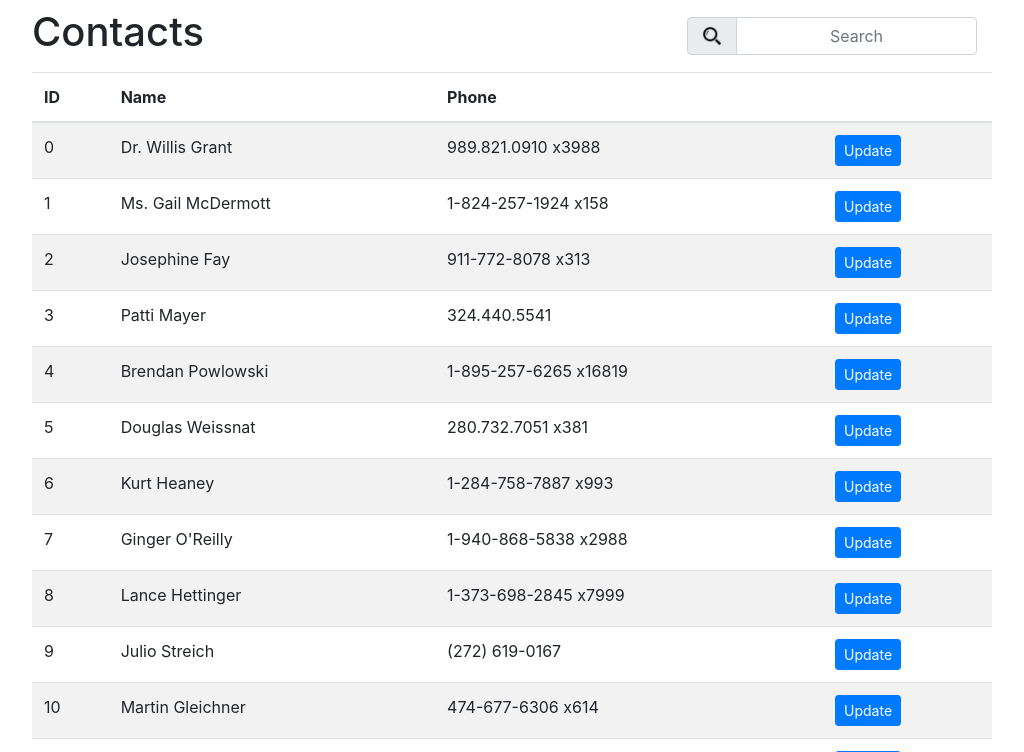
Contacts page › should render › modal dialog if click update button.
The image size is (1024, 752).
Click the button with id "btn-update-0".
click(868, 150)  # box [835, 135, 901, 166]
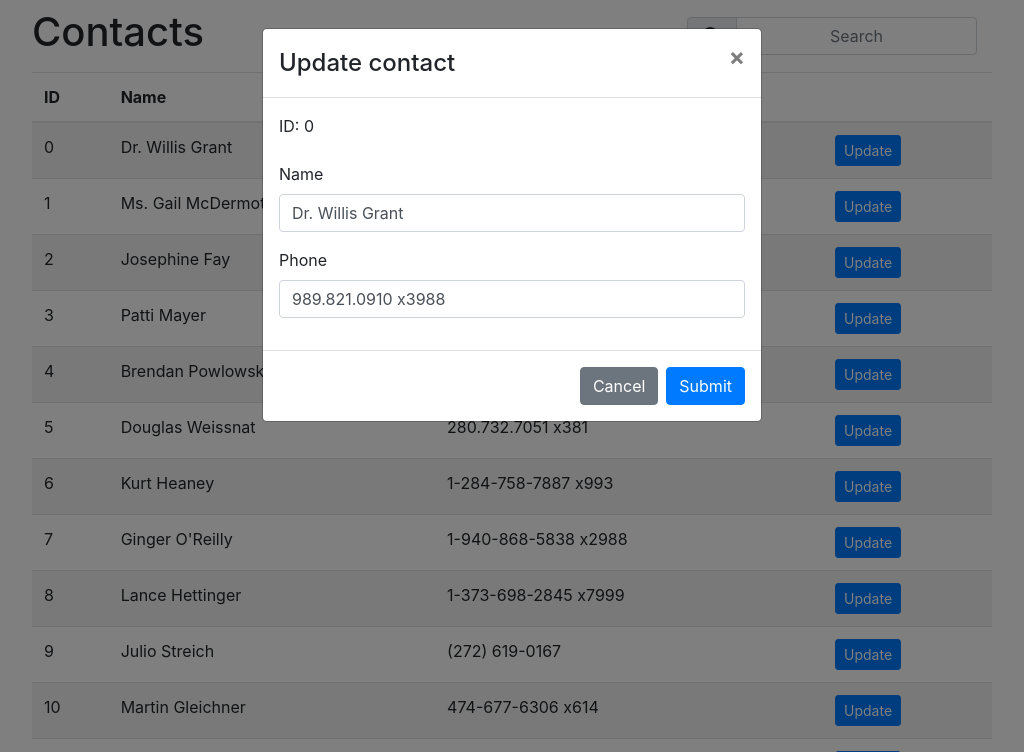
Result: the element with class "modal-dialog" is shown at [262, 28, 762, 422]
